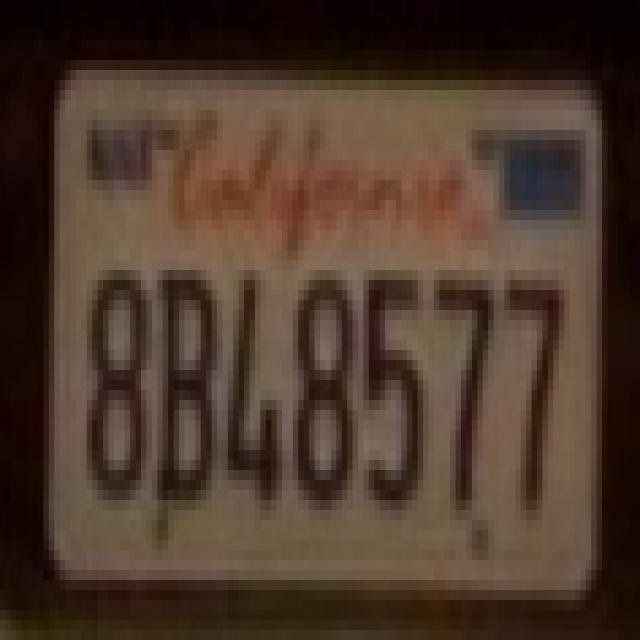LicensePlate: (47, 60, 614, 608)
